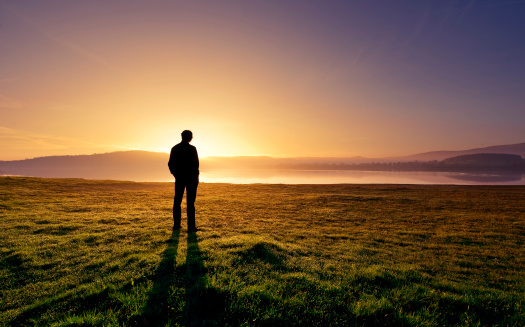em pe: (170, 121, 196, 228)
